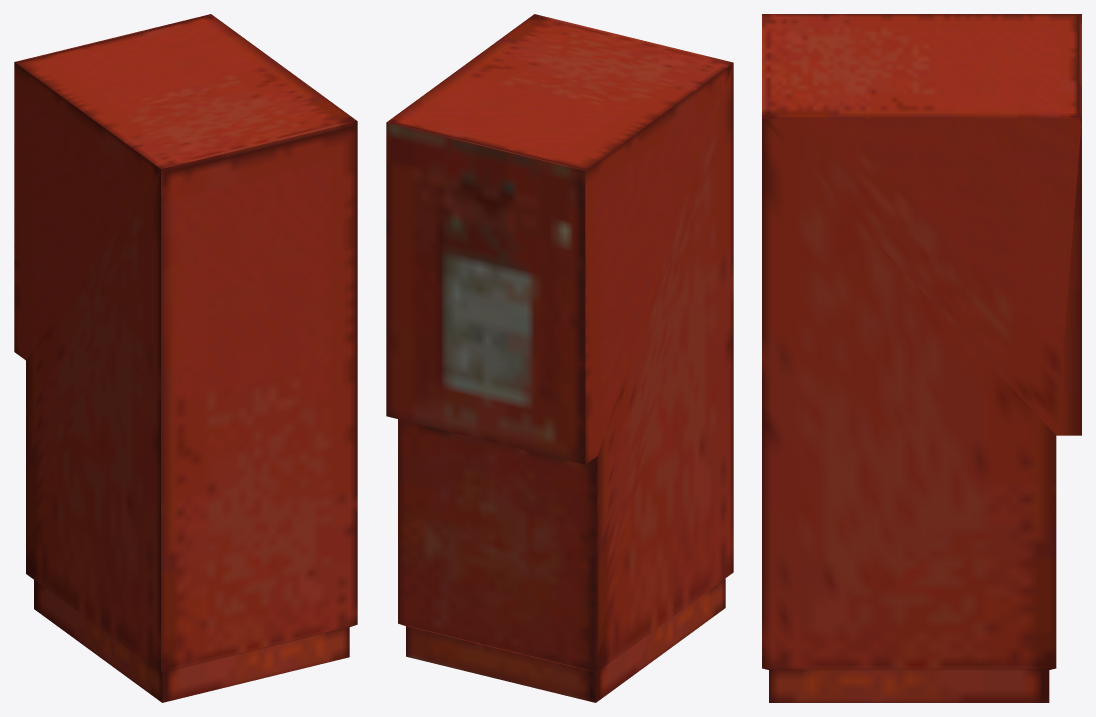
The model's file is newstandnew2.obj.
3 views of the same model, side by side, from view 1: azimuth 30°, elevation 25°; view 2: azimuth 150°, elevation 25°; view 3: azimuth 270°, elevation 25° (orthographic). The views are drawn at different scales.
Visible parts, largest first — view 1: newstandnew2_L0; view 2: newstandnew2_L0; view 3: newstandnew2_L0.
Boxes of the visible parts, box(x1,y1,x2,y2) form: newstandnew2_L0: box(14, 14, 357, 702); newstandnew2_L0: box(386, 14, 733, 702); newstandnew2_L0: box(762, 14, 1081, 702).
Bounding box in the file's own units: 0.4216 × 1.1 × 0.5435.
